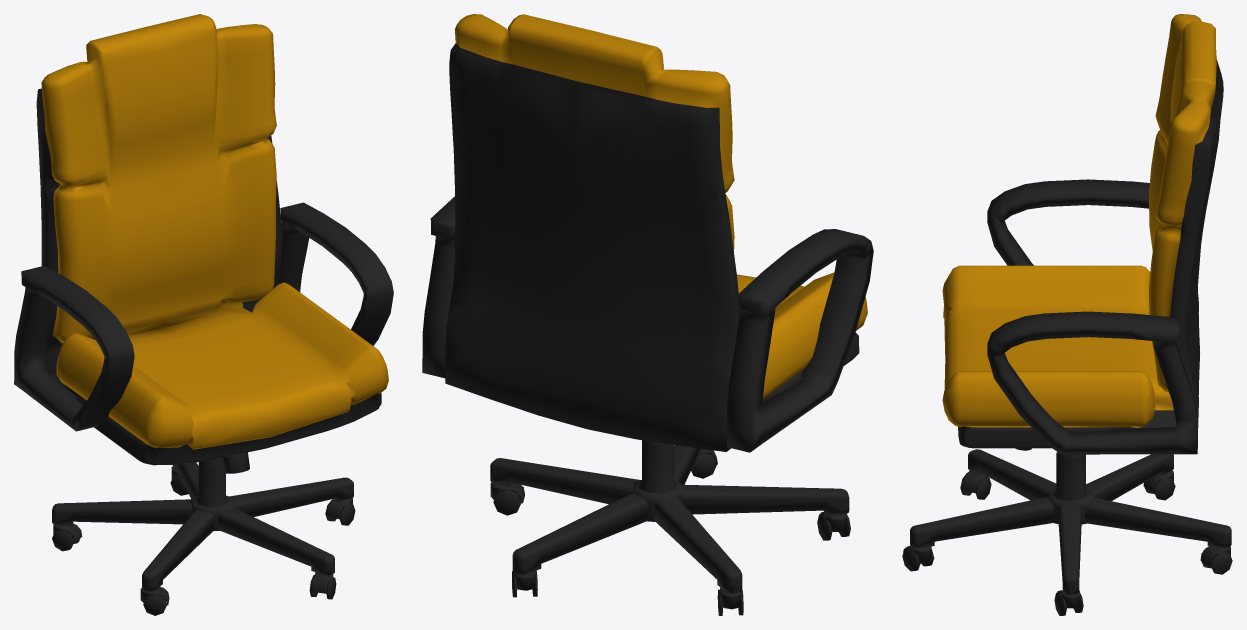
File: KursiGuru.fbx
The picture shows the model from 3 angles, left to right: view 1: azimuth 30°, elevation 25°; view 2: azimuth 150°, elevation 25°; view 3: azimuth 270°, elevation 25°; orthographic projection. The views are drawn at different scales.
Parts seen in each view (by area): view 1: ChairBack_LP, ChairSeat_LP4, pCube37, pCube38, Leg_LP2, Leg_LP5, Leg_LP4, Leg_LP1, Underside_LP, Leg_LP3; view 2: ChairBack_LP, pCube37, ChairSeat_LP4, Leg_LP1, Leg_LP3, pCube38, Leg_LP4, Leg_LP2, Underside_LP, Leg_LP5; view 3: ChairSeat_LP4, ChairBack_LP, pCube38, pCube37, Leg_LP3, Leg_LP5, Leg_LP1, Leg_LP2, Underside_LP, Leg_LP4.
Part boxes in pixels (<box>): ChairBack_LP: <box>36,14,282,371</box>; ChairSeat_LP4: <box>46,282,388,465</box>; pCube37: <box>14,265,134,431</box>; pCube38: <box>278,202,393,345</box>; Leg_LP2: <box>52,499,192,525</box>; Leg_LP5: <box>218,508,334,575</box>; Leg_LP4: <box>229,477,353,516</box>; Leg_LP1: <box>142,509,214,591</box>; Underside_LP: <box>190,452,249,531</box>; Leg_LP3: <box>173,462,198,498</box>; ChairBack_LP: <box>445,14,739,451</box>; pCube37: <box>727,229,873,452</box>; ChairSeat_LP4: <box>737,272,867,402</box>; Leg_LP1: <box>682,484,849,515</box>; Leg_LP3: <box>512,493,648,574</box>; pCube38: <box>422,196,455,378</box>; Leg_LP4: <box>490,458,640,504</box>; Leg_LP2: <box>654,497,742,593</box>; Underside_LP: <box>632,440,683,521</box>; Leg_LP5: <box>674,445,702,484</box>; ChairSeat_LP4: <box>942,265,1175,448</box>; ChairBack_LP: <box>1149,14,1223,448</box>; pCube38: <box>987,311,1197,454</box>; pCube37: <box>987,179,1149,265</box>; Leg_LP3: <box>1085,498,1231,547</box>; Leg_LP5: <box>910,497,1055,547</box>; Leg_LP1: <box>968,449,1056,500</box>; Leg_LP2: <box>1086,454,1173,500</box>; Underside_LP: <box>1015,448,1095,524</box>; Leg_LP4: <box>1058,505,1081,594</box>.
Bounding box in the file's own units: 74.09 × 120 × 71.87.
